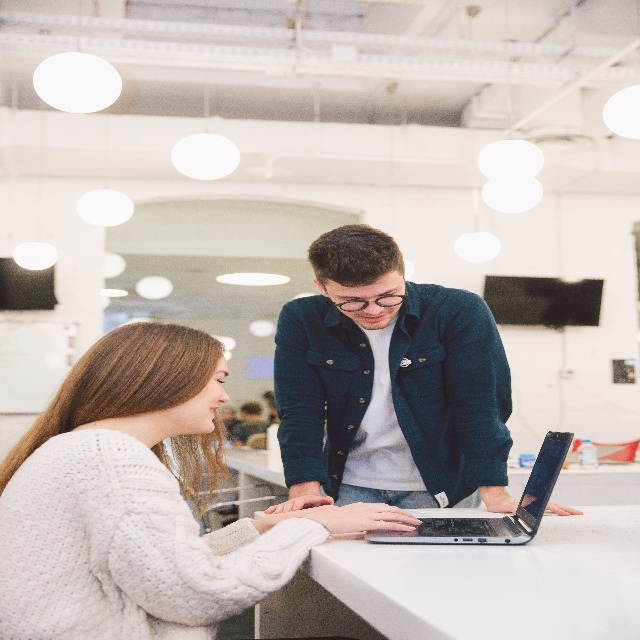Gafas: (320, 281, 408, 312)
Sin_guantes: (316, 503, 422, 534), (487, 493, 584, 516), (264, 493, 334, 515)
